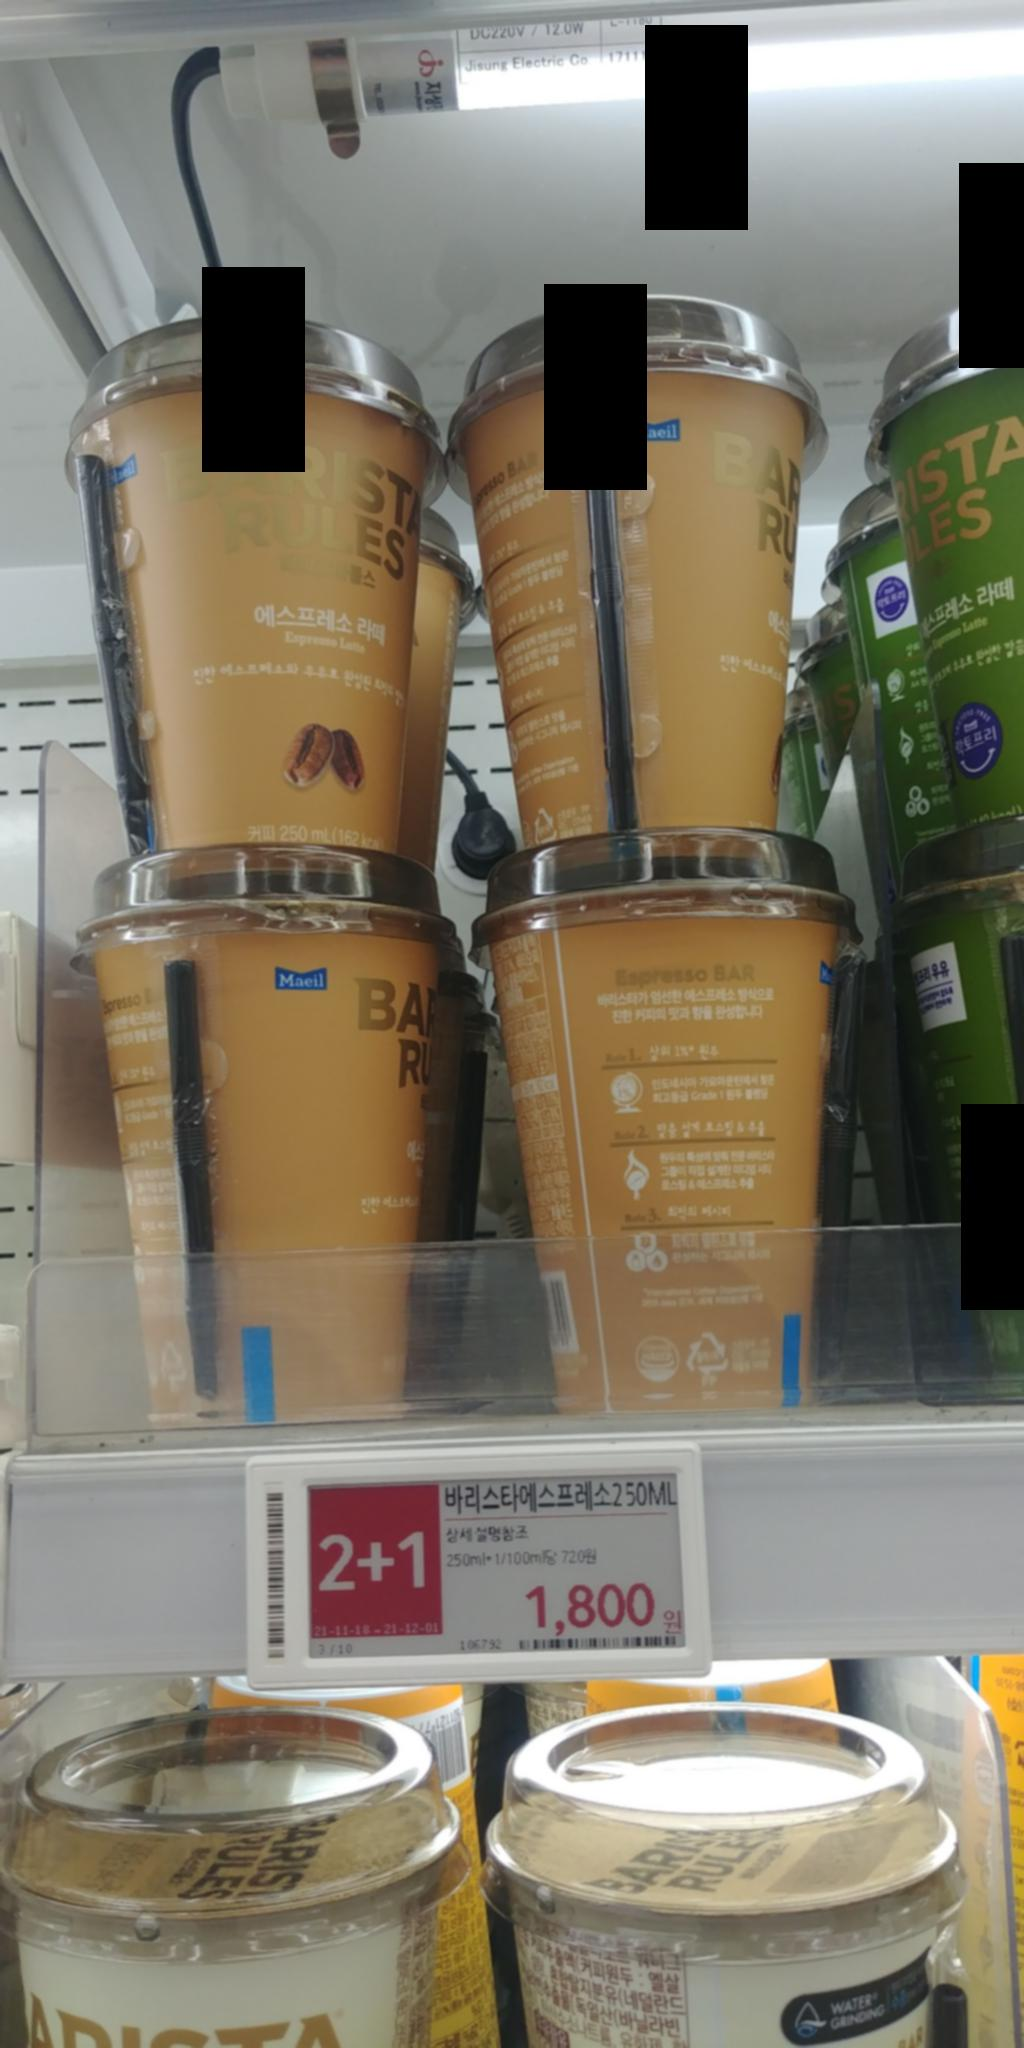baristarules_espressolatte: (464, 835, 876, 1429), (48, 852, 470, 1432), (434, 280, 825, 869), (64, 312, 460, 888)
